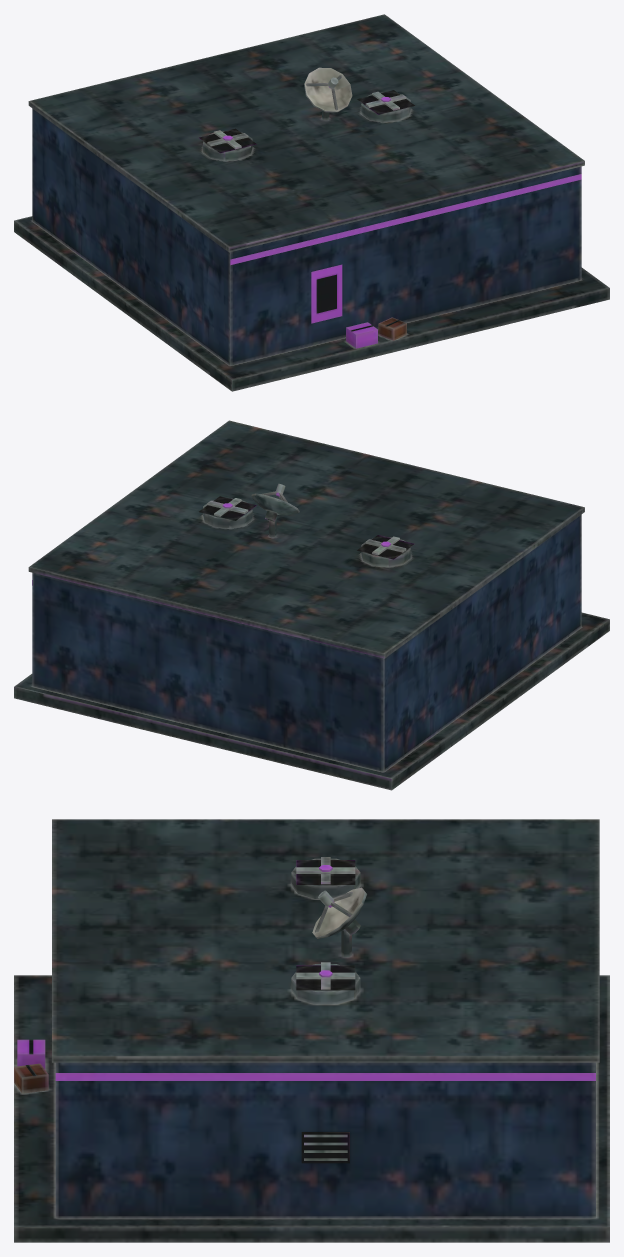
File: miniaturization_factory.glb
The picture shows the model from 3 angles, top to bottom: view 1: azimuth 30°, elevation 25°; view 2: azimuth 150°, elevation 25°; view 3: azimuth 270°, elevation 25°; orthographic projection. The views are drawn at different scales.
Visible parts, largest first — view 1: te_miniaturization_factory, move_dish; view 2: te_miniaturization_factory, move_dish; view 3: te_miniaturization_factory, move_dish, move_fan_2, move_fan_1.
Boxes of the visible parts, left/top/right/bottom form: te_miniaturization_factory: left=14, top=14, right=609, bottom=391; move_dish: left=304, top=67, right=352, bottom=112; te_miniaturization_factory: left=14, top=420, right=609, bottom=790; move_dish: left=251, top=483, right=299, bottom=521; te_miniaturization_factory: left=14, top=819, right=609, bottom=1242; move_dish: left=312, top=887, right=366, bottom=938; move_fan_2: left=296, top=962, right=355, bottom=989; move_fan_1: left=296, top=857, right=355, bottom=884.
Bounding box in the file's own units: 1.72 × 0.7745 × 1.72.
Materials: 1 (1 with a texture image).
